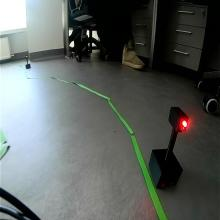red: (170, 106, 190, 134)
